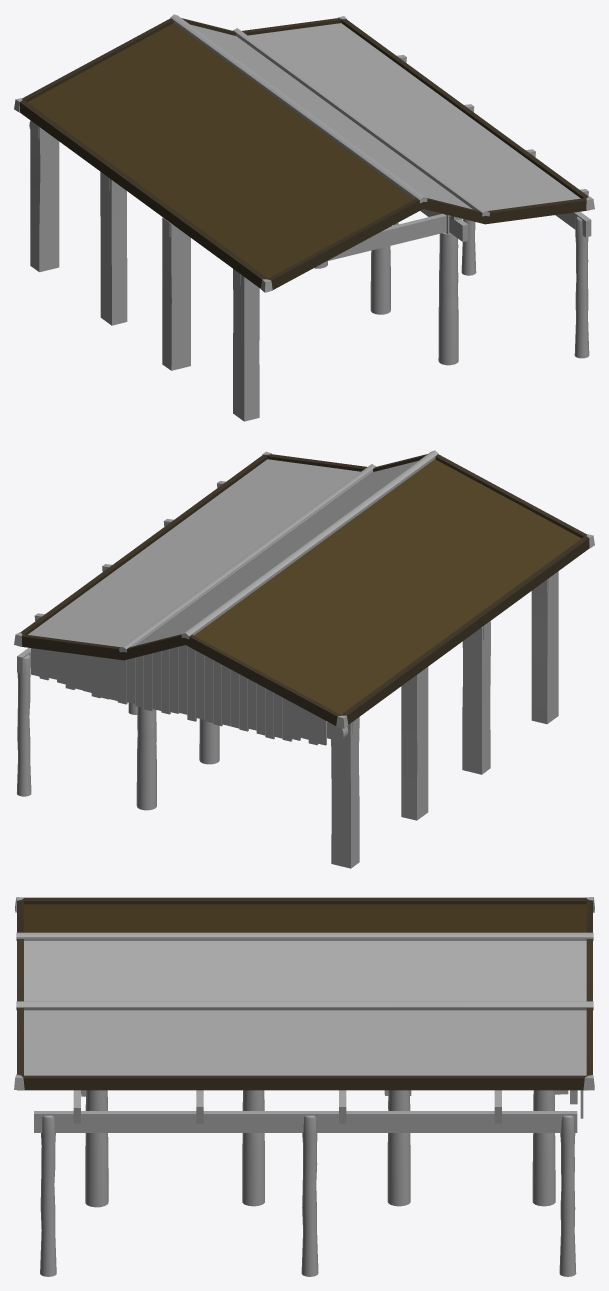
File: SawMillHouse.fbx
3 views of the same model, one above another, from view 1: azimuth 30°, elevation 25°; view 2: azimuth 150°, elevation 25°; view 3: azimuth 270°, elevation 25° (orthographic). The views are drawn at different scales.
Visible parts, largest first — view 1: pCube2, pCube40, pCube84, pCube83, pCube85, pCube36, pCylinder15, pCube79, pCube82, pCylinder12, pCylinder14, pCylinder11 (+1 smaller); view 2: pCube2, pCube84, pCube83, pCube85, pCube40, pCube36, pCube79, pCylinder1, pCylinder5, pCylinder13, pCube101, pCube100 (+7 smaller); view 3: pCube2, pCube37, pCube79, pCube36, pCylinder12, pCylinder11, pCylinder5, pCylinder15, pCylinder13, pCylinder1, pCylinder14.
Part boxes in pixels (x1,y1,x2,y2): pCube2: (19, 18, 588, 289); pCube40: (30, 120, 59, 272); pCube84: (162, 217, 190, 370); pCube83: (100, 172, 127, 325); pCube85: (233, 269, 259, 421); pCube36: (170, 14, 427, 203); pCylinder15: (438, 232, 458, 365); pCube79: (233, 28, 489, 216); pCube82: (326, 213, 446, 261); pCylinder12: (574, 216, 589, 358); pCylinder14: (370, 246, 390, 314); pCylinder11: (461, 219, 476, 275); pCube2: (17, 454, 589, 725); pCube84: (462, 621, 490, 774); pCube83: (401, 667, 428, 820); pCube85: (531, 571, 558, 724); pCube40: (331, 717, 359, 868); pCube36: (181, 450, 438, 639); pCube79: (119, 464, 375, 652); pCylinder1: (136, 707, 156, 810); pCylinder5: (17, 654, 31, 796); pCylinder13: (199, 719, 219, 764); pCube101: (178, 645, 187, 714); pCube100: (187, 646, 196, 721); pCube2: (17, 897, 592, 1090); pCube37: (34, 1111, 577, 1132); pCube79: (16, 1001, 593, 1010); pCube36: (16, 932, 593, 940); pCylinder12: (40, 1115, 56, 1276); pCylinder11: (301, 1115, 318, 1276); pCylinder5: (559, 1115, 576, 1276); pCylinder15: (85, 1090, 108, 1207); pCylinder13: (387, 1090, 410, 1206); pCylinder1: (532, 1090, 555, 1206); pCylinder14: (242, 1090, 264, 1206).
Size of what is drawn, in the model's own units: 30.8 by 17.73 by 38.34.
